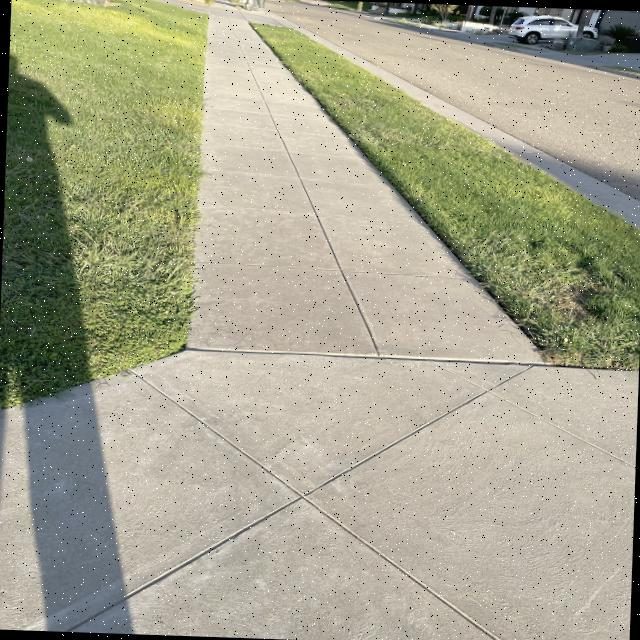walkway: (196, 362, 555, 488), (192, 274, 540, 402), (198, 218, 460, 320), (204, 178, 426, 254), (201, 139, 376, 203), (203, 98, 356, 149), (208, 66, 315, 125)
